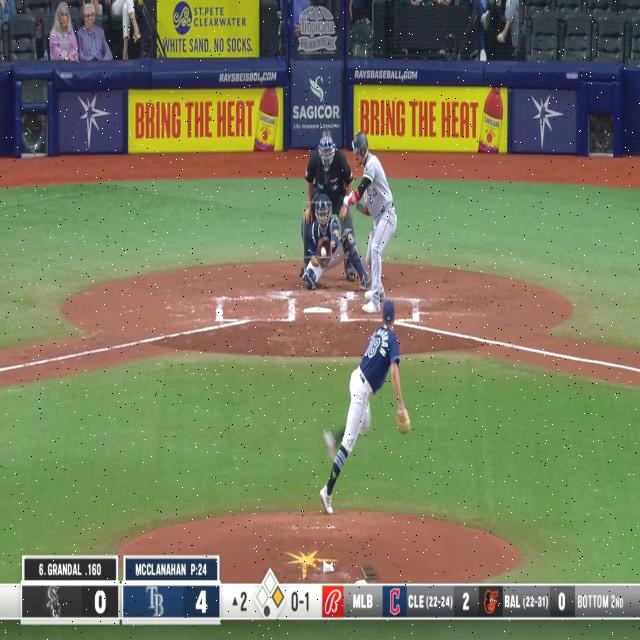baseball: (321, 246, 326, 258)
